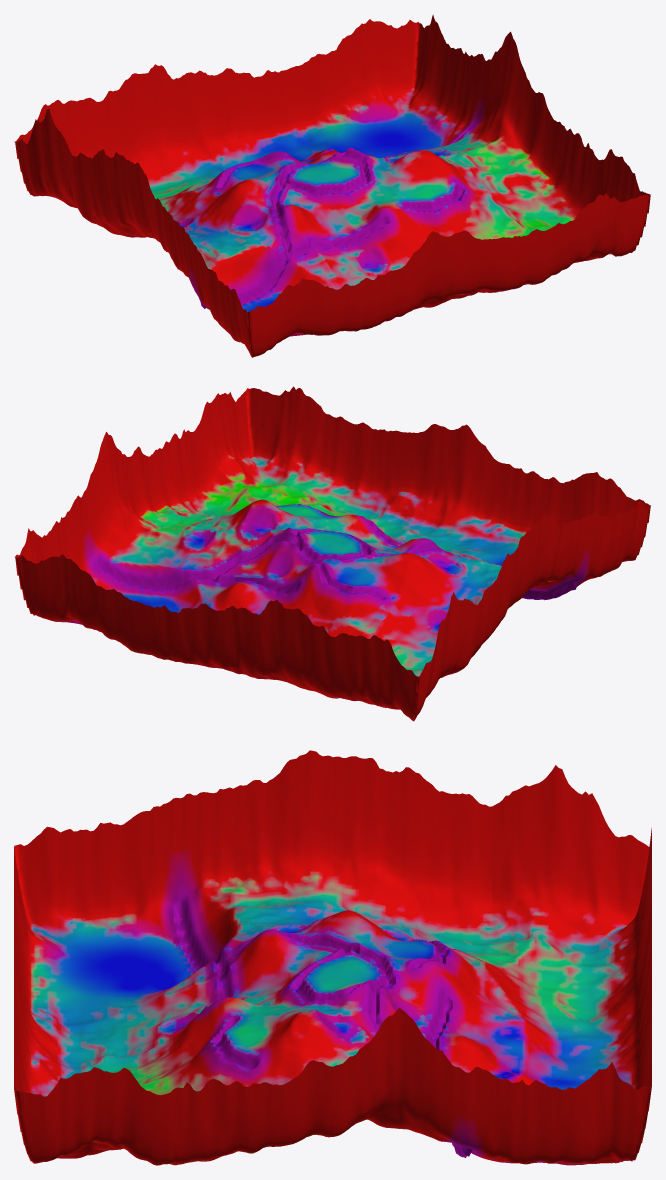
Rendered from terrain_ridgeline.glb.
The picture shows the model from 3 angles, top to bottom: view 1: azimuth 30°, elevation 25°; view 2: azimuth 150°, elevation 25°; view 3: azimuth 270°, elevation 25°; orthographic projection. The views are drawn at different scales.
Visible parts, largest first — view 1: terrain_3_3, terrain_1_3, terrain_1_1, terrain_3_1, terrain_2_3, terrain_2_1, terrain_0_1, terrain_3_0, terrain_0_0, terrain_0_3, terrain_3_2, terrain_1_0 (+4 smaller); view 2: terrain_3_0, terrain_3_2, terrain_2_0, terrain_1_0, terrain_1_2, terrain_0_3, terrain_2_2, terrain_1_3, terrain_3_3, terrain_0_2, terrain_0_0, terrain_0_1 (+4 smaller); view 3: terrain_0_3, terrain_0_1, terrain_0_2, terrain_0_0, terrain_3_2, terrain_3_1, terrain_3_3, terrain_3_0, terrain_2_1, terrain_1_3, terrain_1_0, terrain_1_2 (+4 smaller).
Boxes of the visible parts, box(x1,y1,x2,y2) form: terrain_3_3: box(317, 14, 476, 158); terrain_1_3: box(115, 64, 236, 199); terrain_1_1: box(232, 175, 391, 290); terrain_3_1: box(445, 92, 593, 231); terrain_2_3: box(216, 54, 364, 164); terrain_2_1: box(333, 150, 492, 261); terrain_0_1: box(130, 162, 282, 309); terrain_3_0: box(493, 149, 650, 280); terrain_0_0: box(189, 236, 348, 357); terrain_0_3: box(14, 90, 172, 217); terrain_3_2: box(393, 31, 535, 163); terrain_1_0: box(315, 231, 449, 331); terrain_3_0: box(189, 386, 348, 506); terrain_3_2: box(72, 432, 231, 610); terrain_2_0: box(307, 422, 449, 541); terrain_1_0: box(395, 424, 550, 565); terrain_1_2: box(283, 540, 433, 638); terrain_0_3: box(317, 592, 476, 721); terrain_2_2: box(174, 516, 332, 614); terrain_1_3: box(216, 599, 352, 697); terrain_3_3: box(15, 506, 172, 642); terrain_0_2: box(381, 526, 535, 669); terrain_0_0: box(547, 472, 650, 586); terrain_0_1: box(434, 514, 593, 600); terrain_0_3: box(492, 765, 651, 993); terrain_0_1: box(173, 750, 332, 985); terrain_0_2: box(333, 756, 492, 964); terrain_0_0: box(14, 798, 173, 987); terrain_3_2: box(333, 1008, 492, 1160); terrain_3_1: box(173, 1047, 332, 1165); terrain_3_3: box(492, 1031, 651, 1165); terrain_3_0: box(14, 1036, 173, 1165); terrain_2_1: box(173, 977, 332, 1090); terrain_1_3: box(492, 874, 651, 1059); terrain_1_0: box(14, 911, 173, 1059); terrain_1_2: box(333, 910, 492, 1031).
Size of the model in its own units: 192 by 63.02 by 192.
